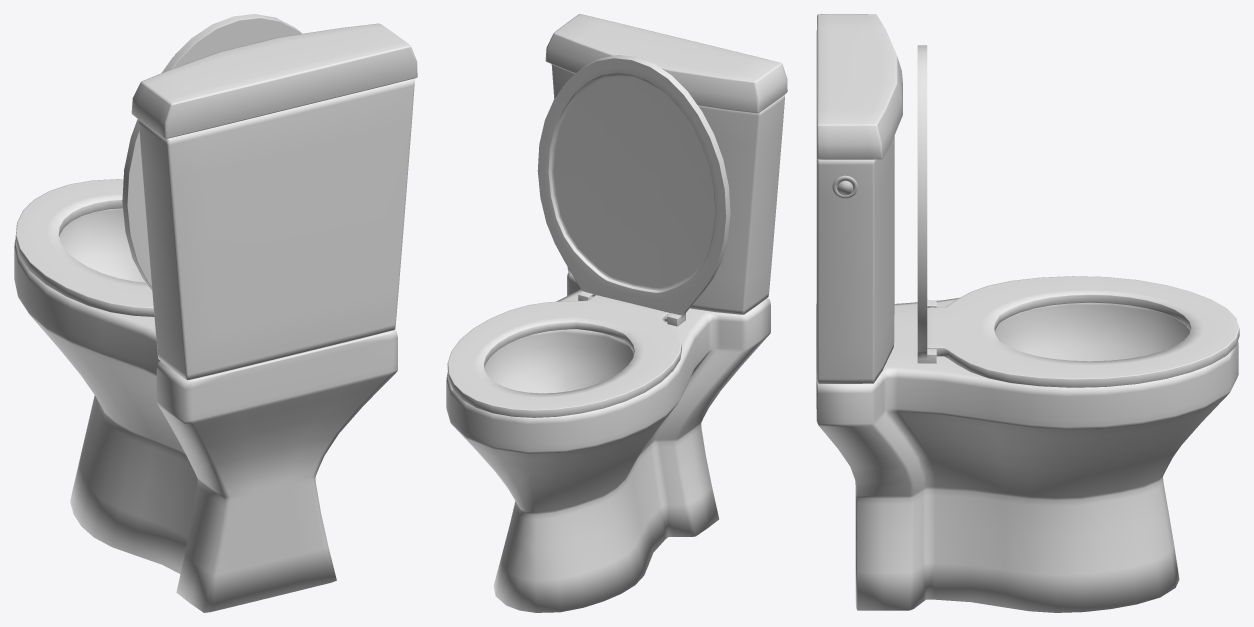
File: Toilet01.glb
3 renders of one model, left to right at view 1: azimuth 30°, elevation 25°; view 2: azimuth 150°, elevation 25°; view 3: azimuth 270°, elevation 25°, orthographic. The views are drawn at different scales.
Visible parts, largest first — view 1: Toilet01_model, ToiletSeat01, ToiletCover01; view 2: Toilet01_model, ToiletCover01, ToiletSeat01; view 3: Toilet01_model, ToiletSeat01, ToiletCover01.
Part boxes in pixels (left/top/right/bottom): Toilet01_model: left=14, top=23, right=417, bottom=612; ToiletSeat01: left=15, top=179, right=154, bottom=316; ToiletCover01: left=122, top=14, right=302, bottom=290; Toilet01_model: left=446, top=14, right=787, bottom=612; ToiletCover01: left=537, top=55, right=730, bottom=326; ToiletSeat01: left=447, top=295, right=681, bottom=417; Toilet01_model: left=816, top=14, right=1238, bottom=612; ToiletSeat01: left=927, top=276, right=1239, bottom=387; ToiletCover01: left=917, top=45, right=936, bottom=363.
Size of the model in its own units: 0.8575 by 1.79 by 1.31.
Materials: 1 (1 with a texture image).
